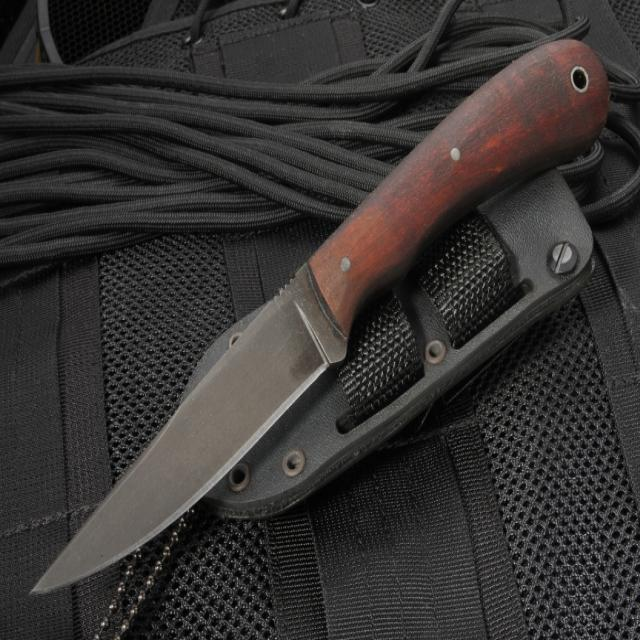knife: (17, 26, 621, 619)
